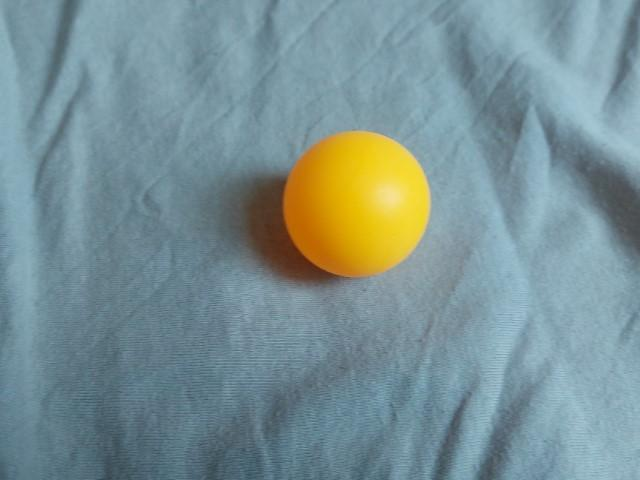oball: (272, 123, 442, 290)
